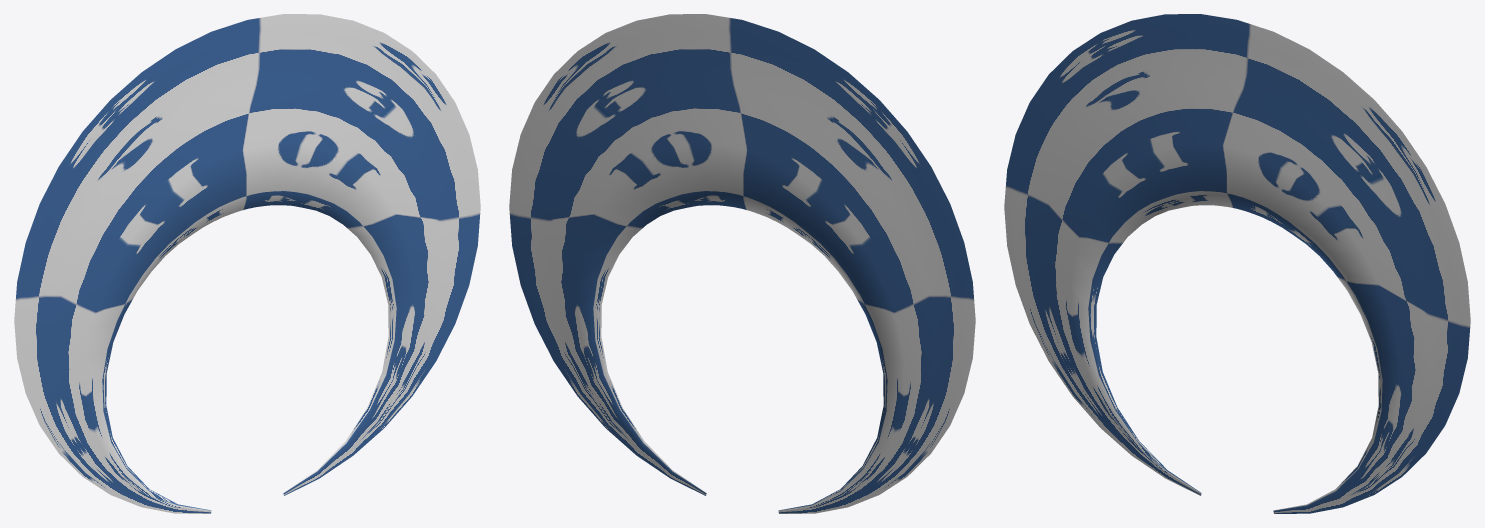
File: Rengoku_Swing.fbx
3 renders of one model, left to right at view 1: azimuth 30°, elevation 25°; view 2: azimuth 150°, elevation 25°; view 3: azimuth 330°, elevation 25°, orthographic.
Visible parts, largest first — view 1: SM_e_Skl_Fi_2Nob_Circle004; view 2: SM_e_Skl_Fi_2Nob_Circle004; view 3: SM_e_Skl_Fi_2Nob_Circle004.
Boxes of the visible parts, bbox=[...] form: SM_e_Skl_Fi_2Nob_Circle004: bbox=[14, 14, 480, 513]; SM_e_Skl_Fi_2Nob_Circle004: bbox=[509, 14, 975, 513]; SM_e_Skl_Fi_2Nob_Circle004: bbox=[1004, 14, 1470, 513].
Bounding box in the file's own units: 579 × 576 × 21.3.
